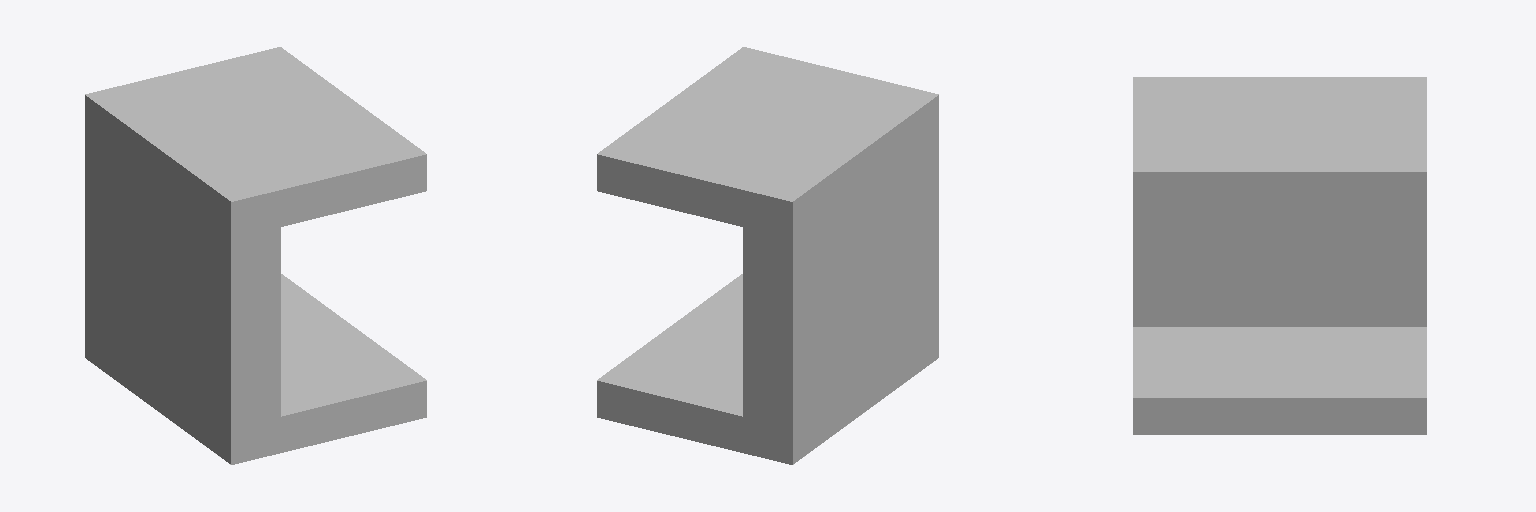
File: steel_channel.obj
3 views of the same model, side by side, from view 1: azimuth 30°, elevation 25°; view 2: azimuth 150°, elevation 25°; view 3: azimuth 270°, elevation 25° (orthographic).
Parts seen in each view (by area): view 1: ___.2; view 2: ___.2; view 3: ___.2.
Part boxes in pixels (x1,y1,x2,y2): ___.2: (85, 47, 426, 464); ___.2: (597, 47, 938, 464); ___.2: (1133, 77, 1426, 434).
Size of the model in its own units: 55.95 by 71.81 by 72.65.